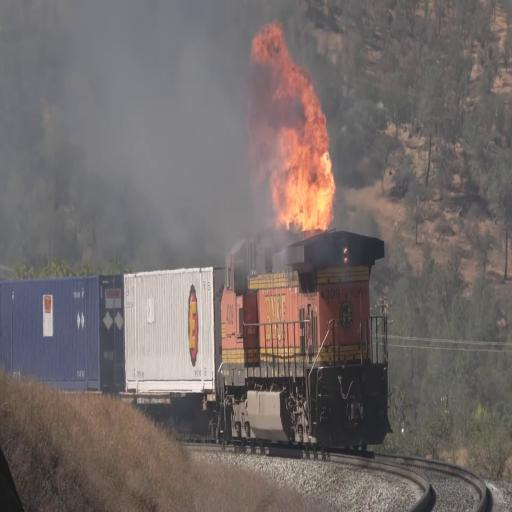fire: (258, 16, 334, 226)
smoke: (86, 0, 230, 224)
